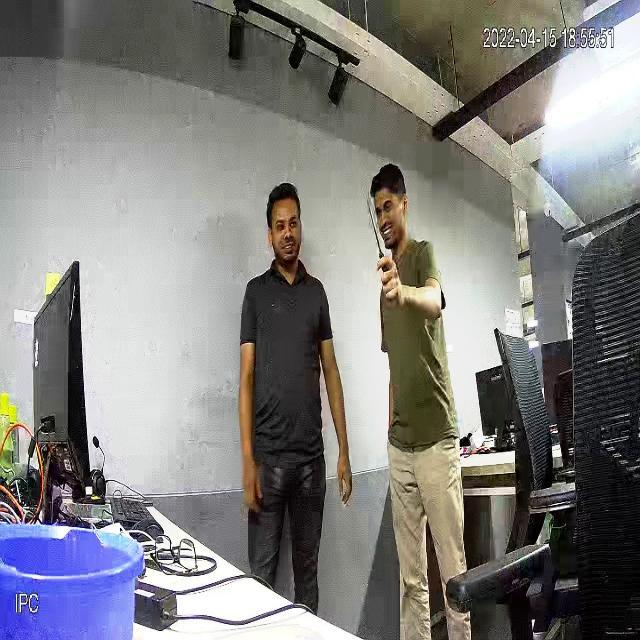Knife: (357, 192, 392, 288)
